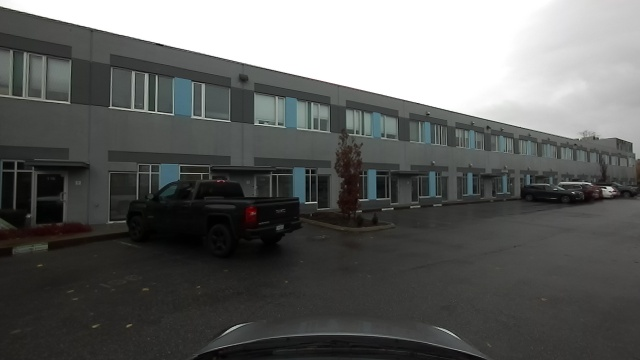car: (126, 178, 302, 254), (520, 185, 584, 207), (562, 186, 603, 205), (618, 184, 635, 200), (599, 187, 614, 200)
